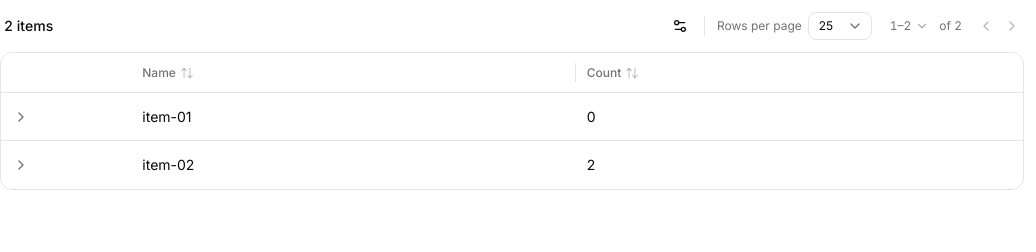
Scenario: DataTable › rows › shows one detail panel at a time
This screenshot has width=1036, height=252.
Click the button named "Toggle row details" next to "item-01".
click(21, 116)  # box [9,104,33,128]
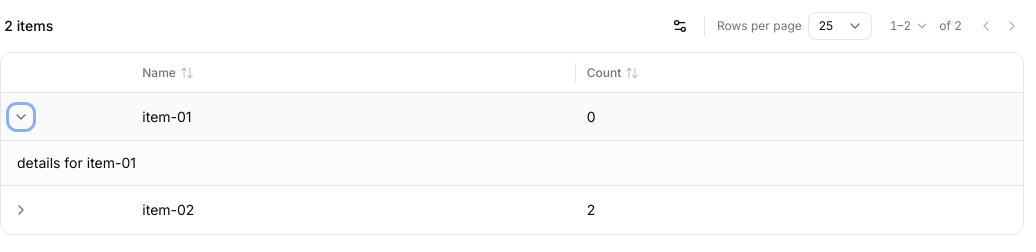
Now the text "details for item-01" is shown, box [17,154,136,171]
Click the button named "Toggle row details" next to "item-02".
click(21, 210)  # box [9,198,33,222]
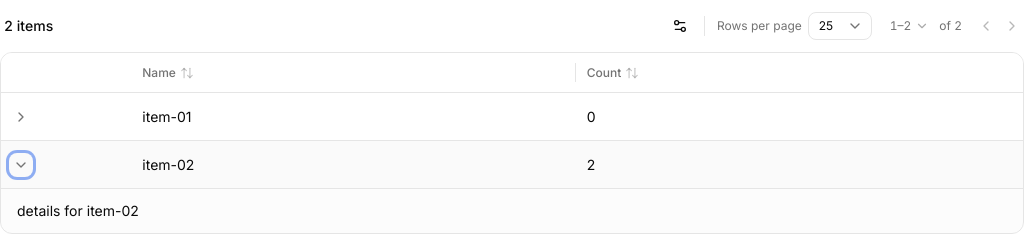
Now the text "details for item-02" is shown, box [17,202,139,219]
Now the text "details for item-01" is gone
